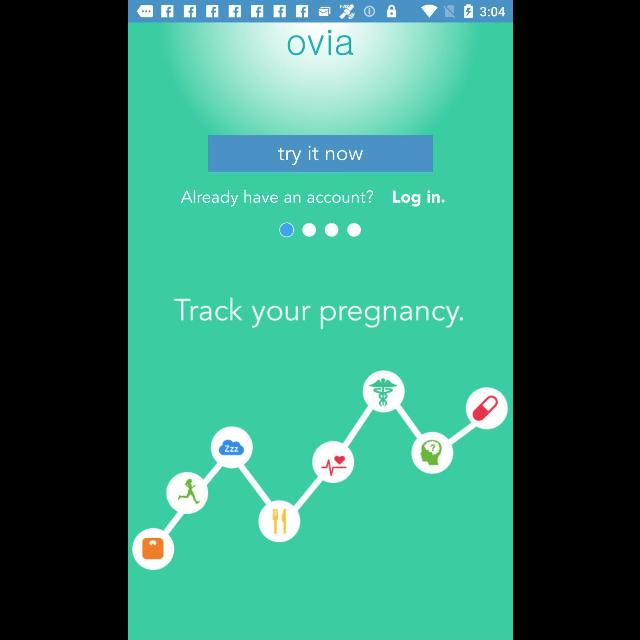image: (130, 370, 508, 570)
pageindicator: (278, 222, 360, 238)
text: (173, 298, 463, 328), (180, 190, 372, 208), (286, 30, 354, 56), (392, 190, 444, 208)
textbutton: (208, 135, 432, 173)
uppertaskbar: (128, 1, 512, 23)
